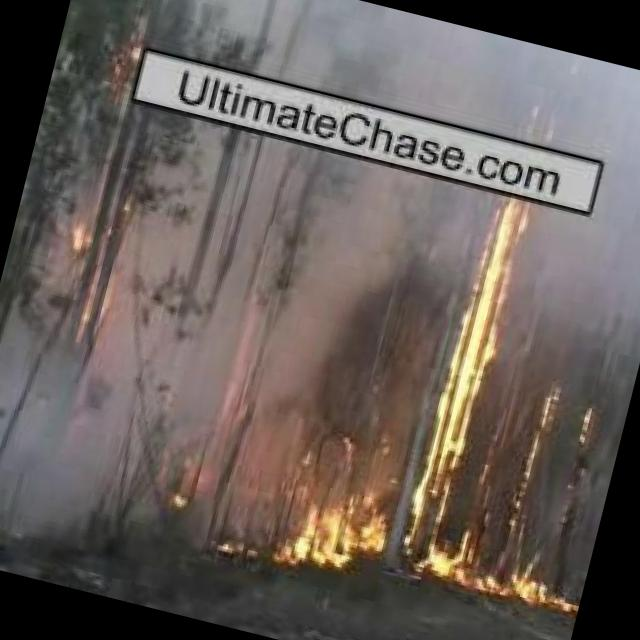Fire: (270, 488, 590, 628), (420, 190, 538, 523), (40, 185, 137, 358), (512, 374, 570, 478), (109, 10, 154, 90), (564, 408, 604, 457)
Smoke: (92, 110, 492, 483), (0, 339, 287, 623), (199, 0, 640, 183)
